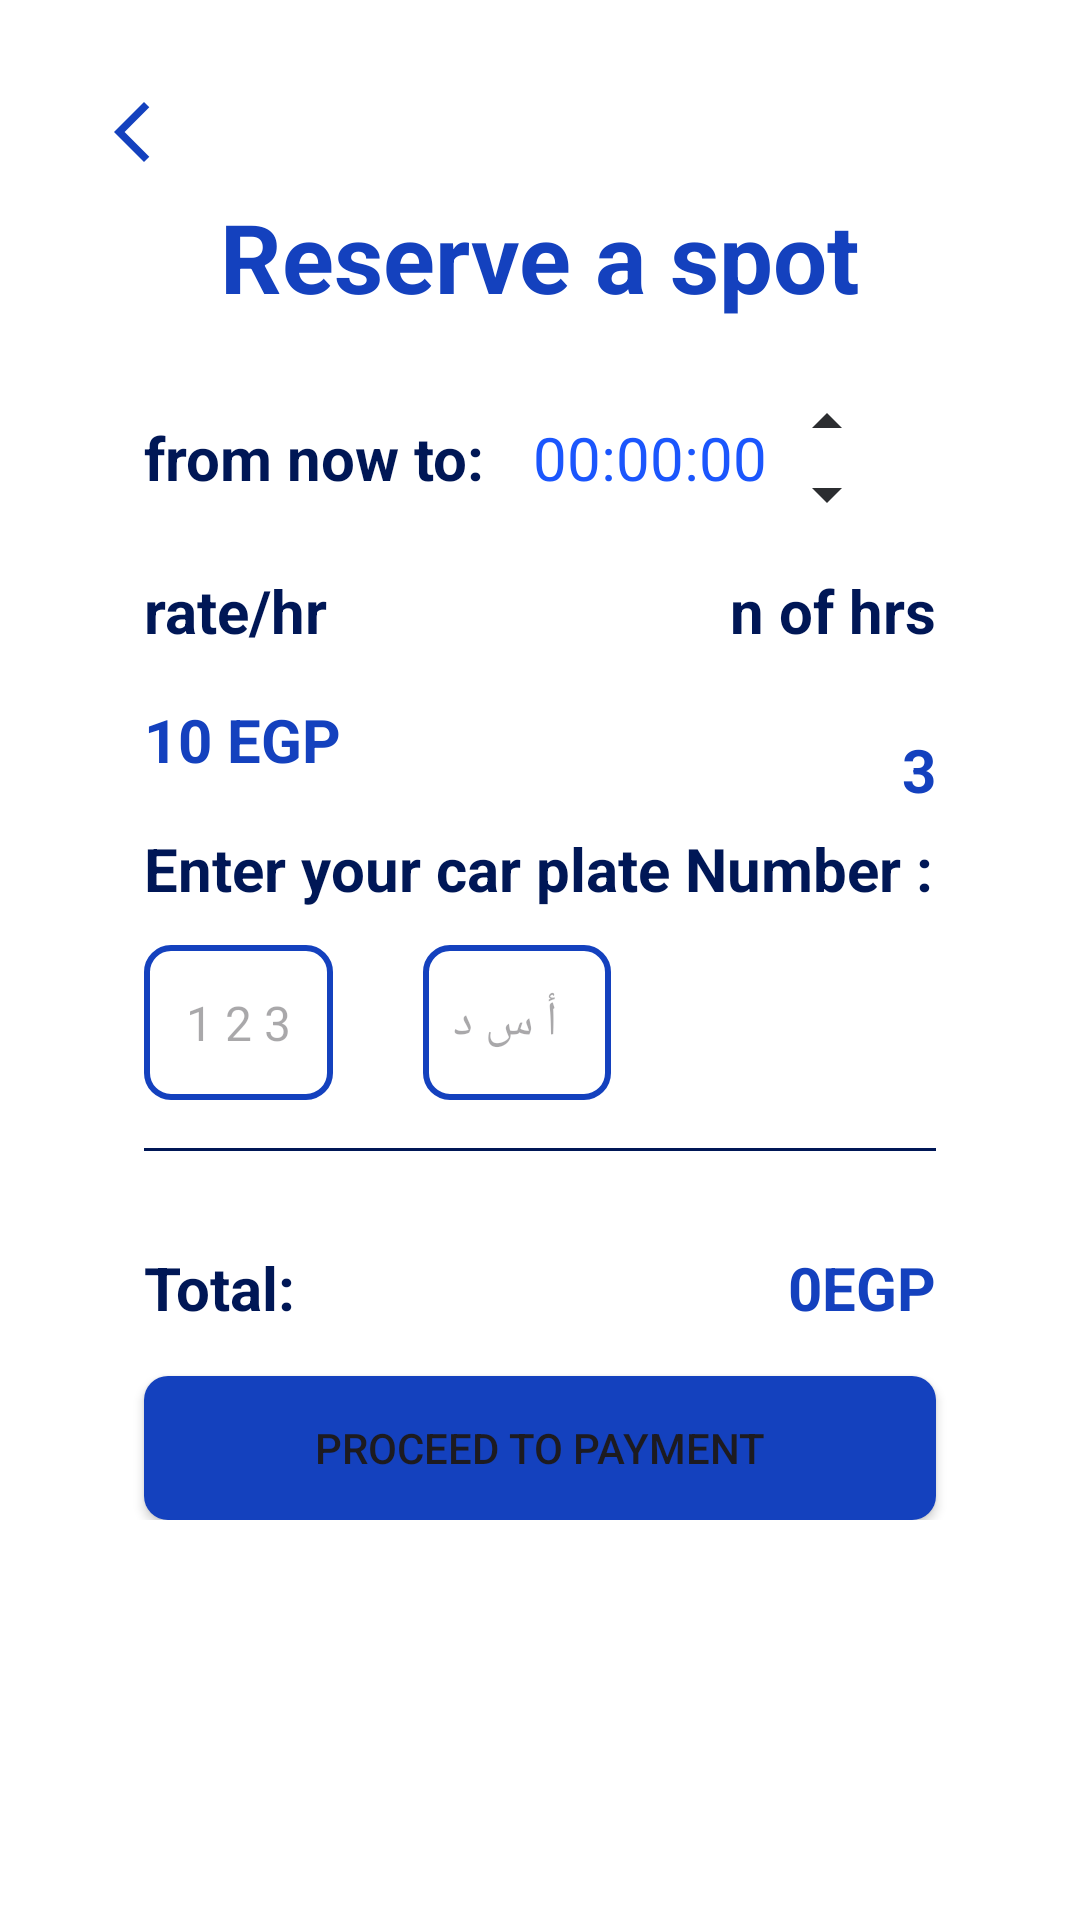

Icon bounding boxes for this 1080 × 1920 phone screenshot, format (x1, y1, x2, y2):
arrow drop down: (812, 488, 842, 503)
arrow drop up: (812, 413, 842, 428)
back: (114, 102, 149, 162)
